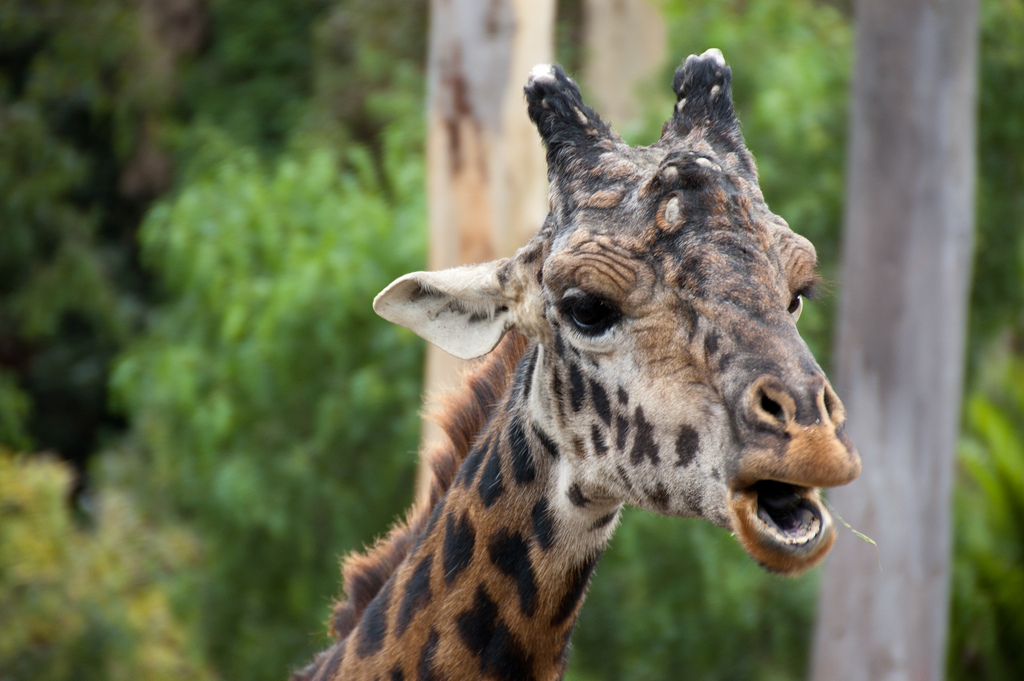giraffe: (446, 63, 903, 609)
